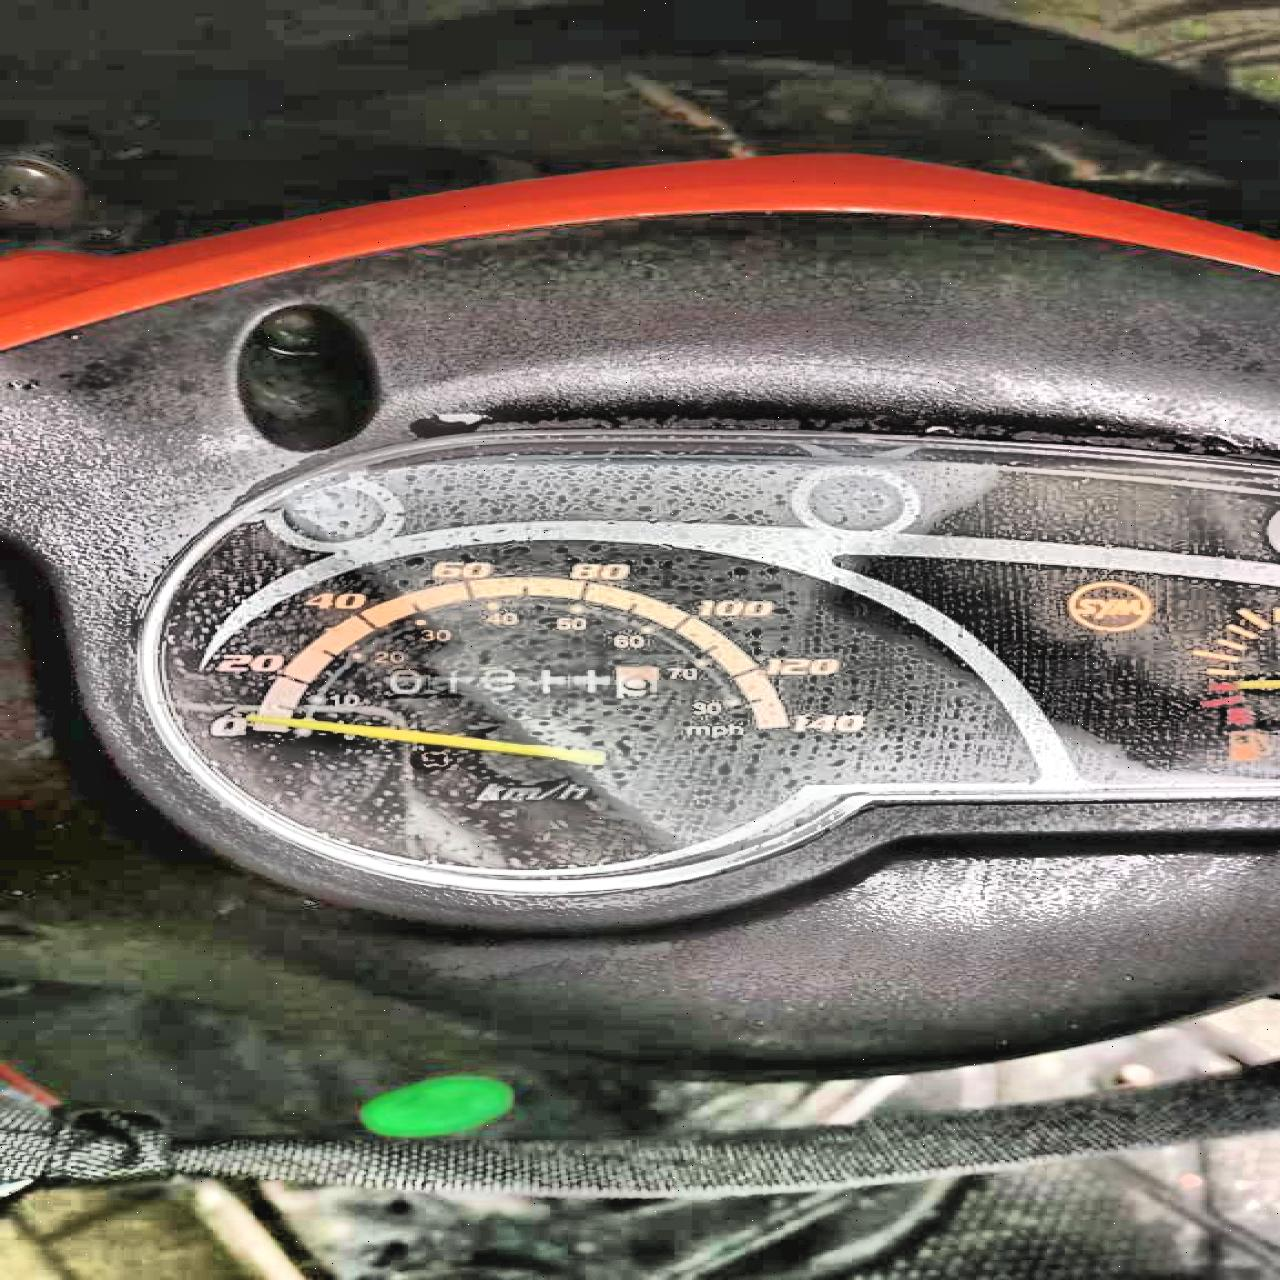0: (386, 666, 421, 696)
1: (532, 666, 554, 700), (579, 665, 599, 699), (442, 666, 462, 699)
3: (477, 665, 517, 697)
9: (617, 669, 654, 702)
odometer: (363, 662, 666, 706)
